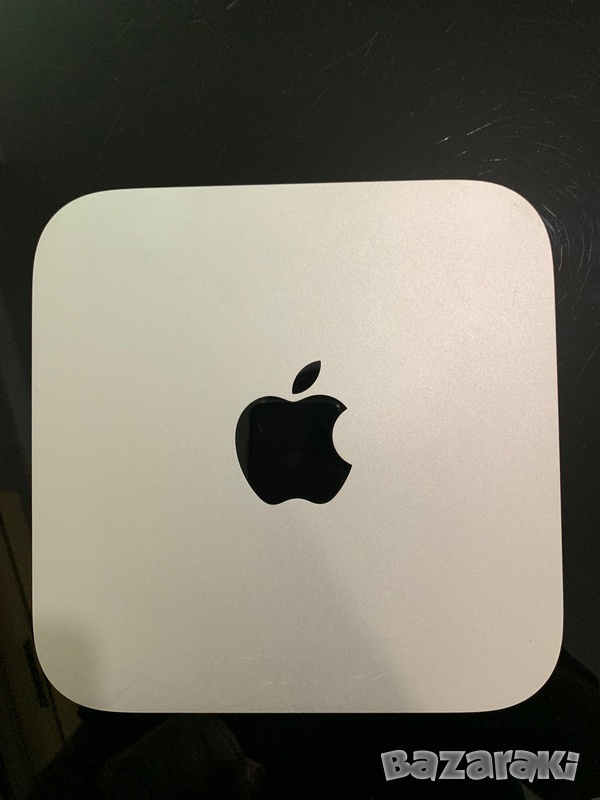apple: (173, 322, 378, 518)
